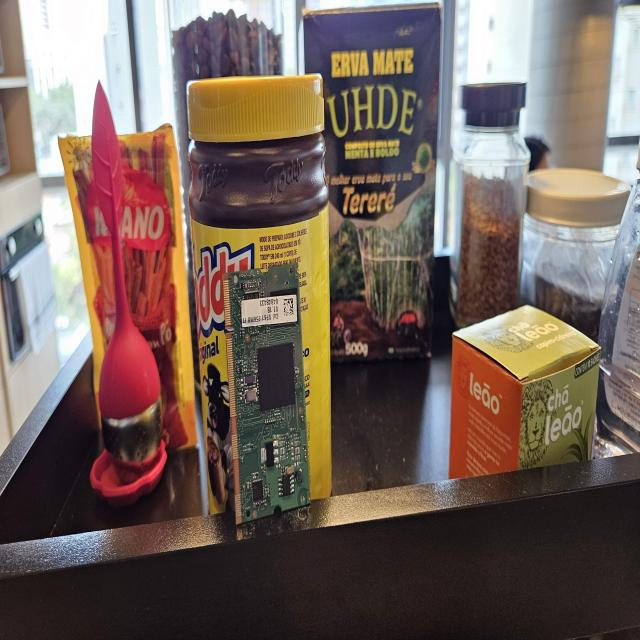som: (218, 257, 323, 529)
